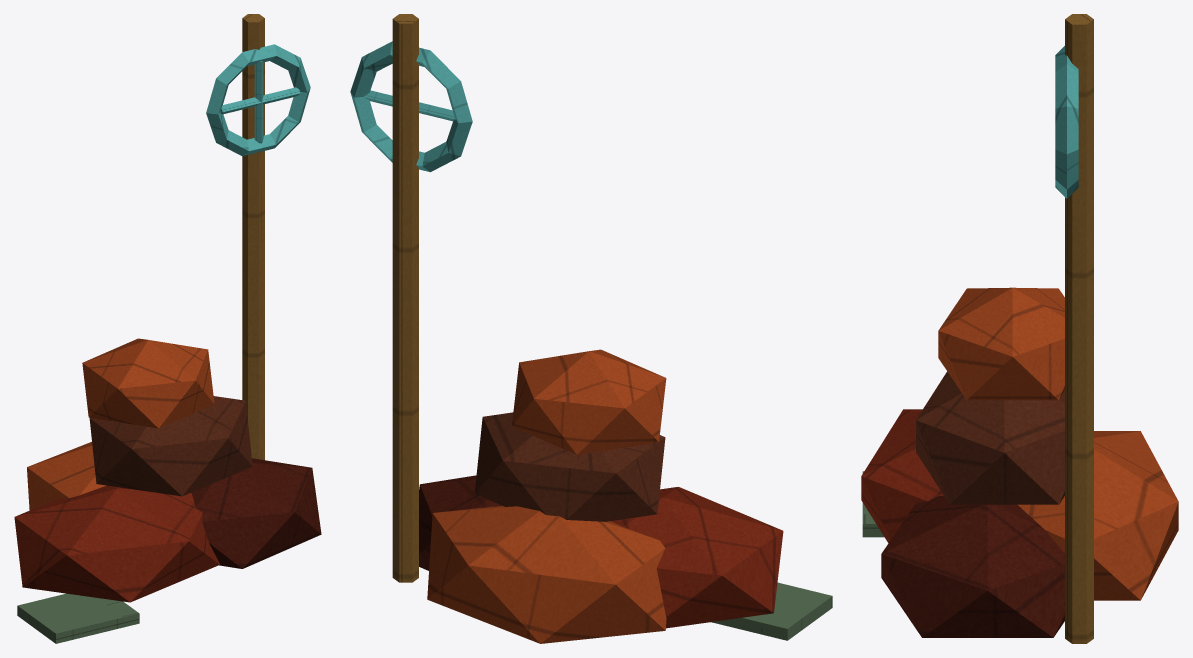
Rendered from survey-cairn.e9.glb.
3 renders of one model, left to right at view 1: azimuth 30°, elevation 25°; view 2: azimuth 150°, elevation 25°; view 3: azimuth 270°, elevation 25°, orthographic. The views are drawn at different scales.
Parts seen in each view (by area): view 1: SurveyCairnE9; view 2: SurveyCairnE9; view 3: SurveyCairnE9.
Part boxes in pixels (x1,y1,x2,y2): SurveyCairnE9: (14,14,321,643); SurveyCairnE9: (350,14,832,643); SurveyCairnE9: (861,14,1178,643).
Size of the model in its own units: 1.2 by 1.72 by 0.7619.
1 material, 1 textured.
